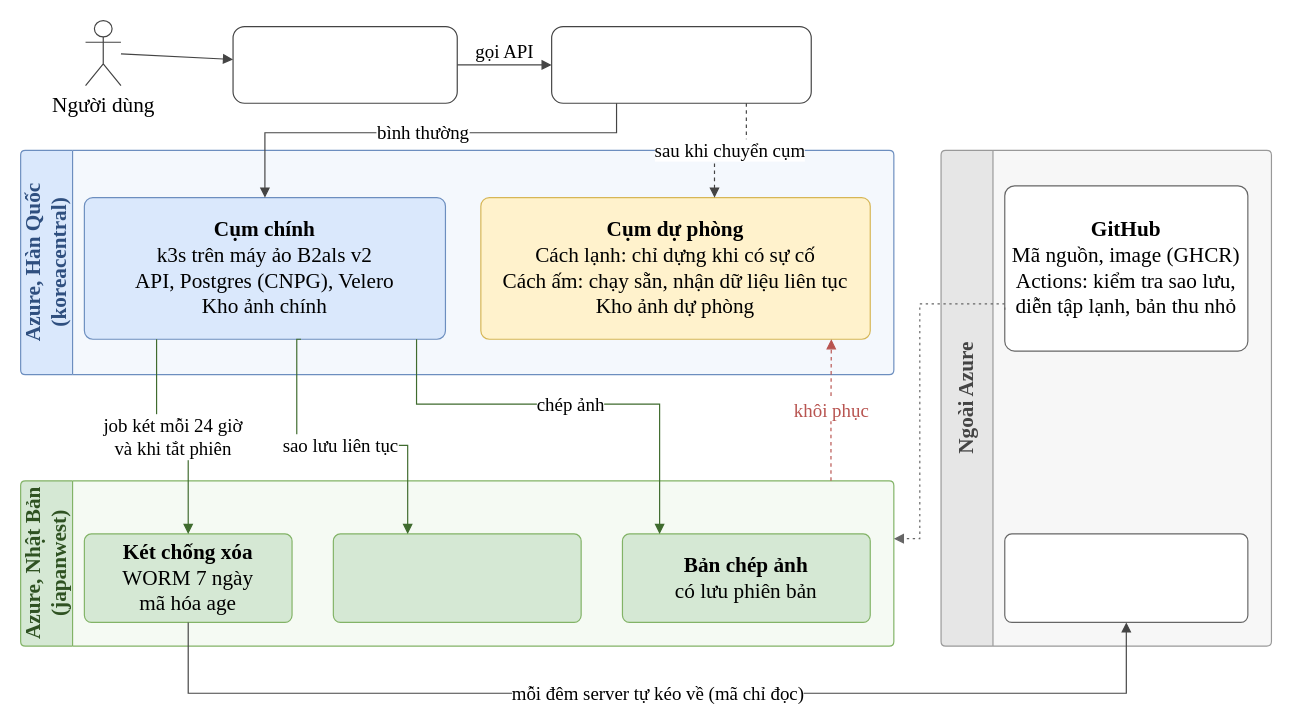
This 1292x725 diagram has some shape labels left out. Each missing label, with the centre of its shape:
"api.dr.qivarn.id.vn Cloudflare DNS TTL 60 giây" goes at point 680,64.
"Giao diện tĩnh dr.qivarn.id.vn GitHub Pages" goes at point 344,64.
"Kho sao lưu WAL, bản đầy đủ, bản Velero" goes at point 456,577.
"Server dự phòng Máy của một người bạn Tailscale, Restic" goes at point 1126,577.
